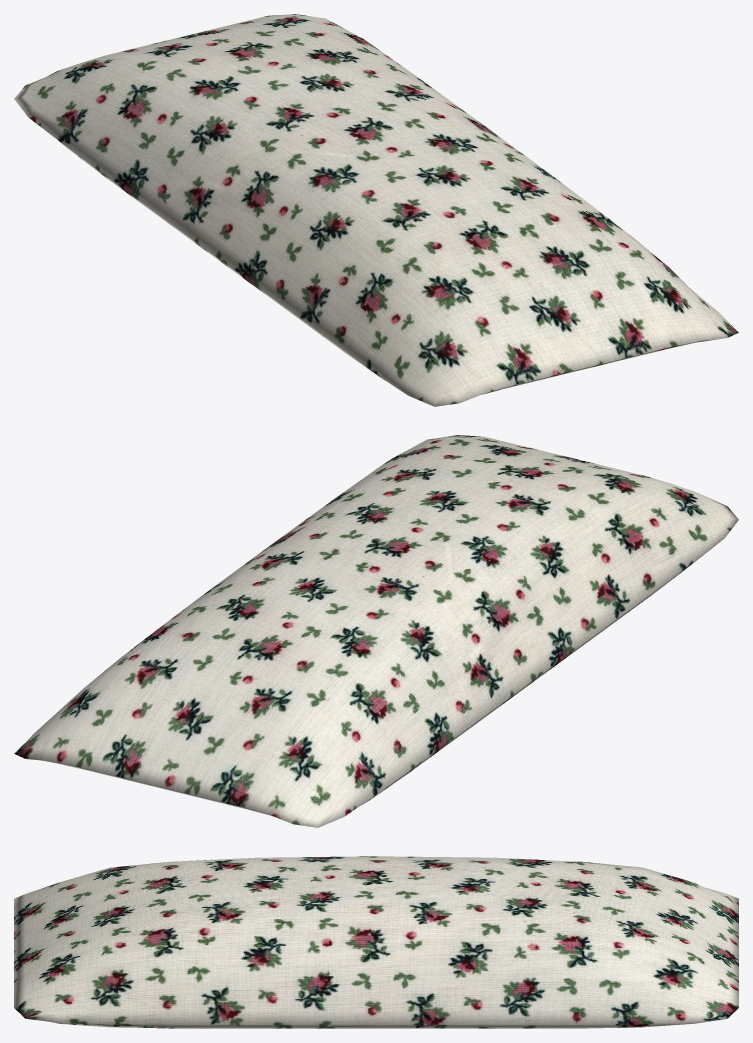
The model's file is pillow.FBX.
3 renders of one model, top to bottom at view 1: azimuth 30°, elevation 25°; view 2: azimuth 150°, elevation 25°; view 3: azimuth 270°, elevation 25°, orthographic. The views are drawn at different scales.
Parts seen in each view (by area): view 1: Box327; view 2: Box327; view 3: Box327.
Part boxes in pixels (<box>): Box327: <box>14,14,738,406</box>; Box327: <box>14,435,738,827</box>; Box327: <box>14,856,738,1028</box>.
Size of the model in its own units: 38.33 by 16.87 by 91.23.
